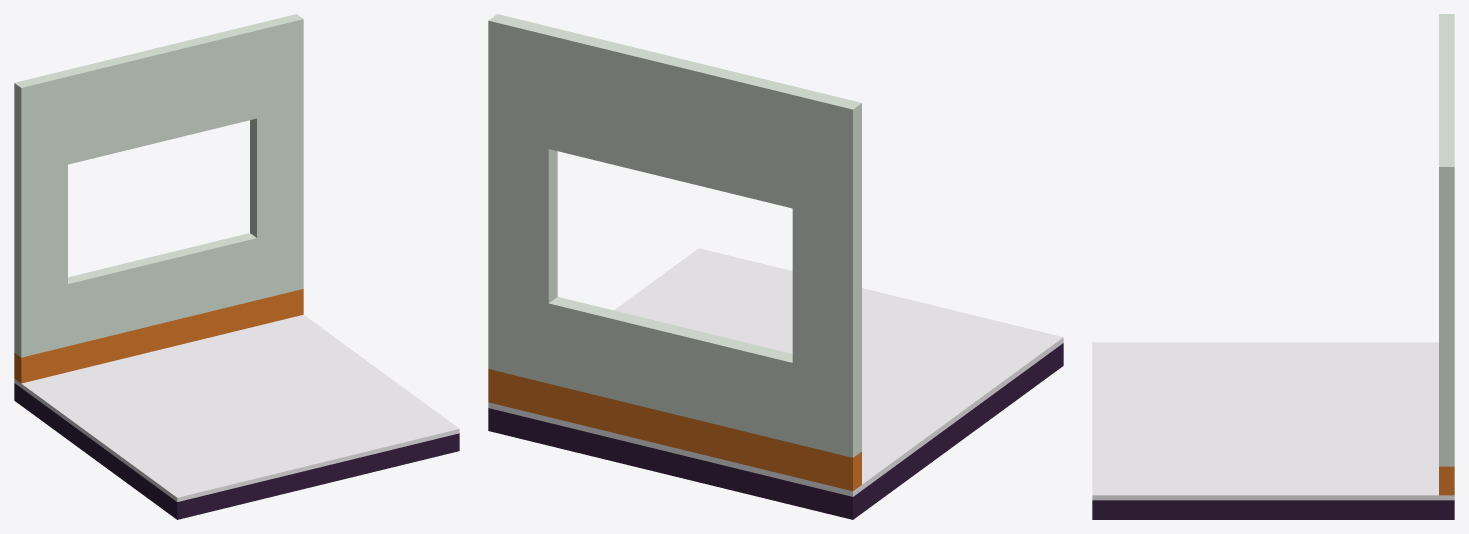
File: wall-window.glb
3 views of the same model, side by side, from view 1: azimuth 30°, elevation 25°; view 2: azimuth 150°, elevation 25°; view 3: azimuth 270°, elevation 25° (orthographic). The views are drawn at different scales.
Parts seen in each view (by area): view 1: wall-window; view 2: wall-window; view 3: wall-window.
Boxes of the visible parts, x1=… form: wall-window: x1=14, y1=14, x2=459, y2=519; wall-window: x1=488, y1=14, x2=1063, y2=519; wall-window: x1=1092, y1=14, x2=1454, y2=519.
Bounding box in the file's own units: 2 × 2.15 × 2.
Materials: 1 (1 with a texture image).
